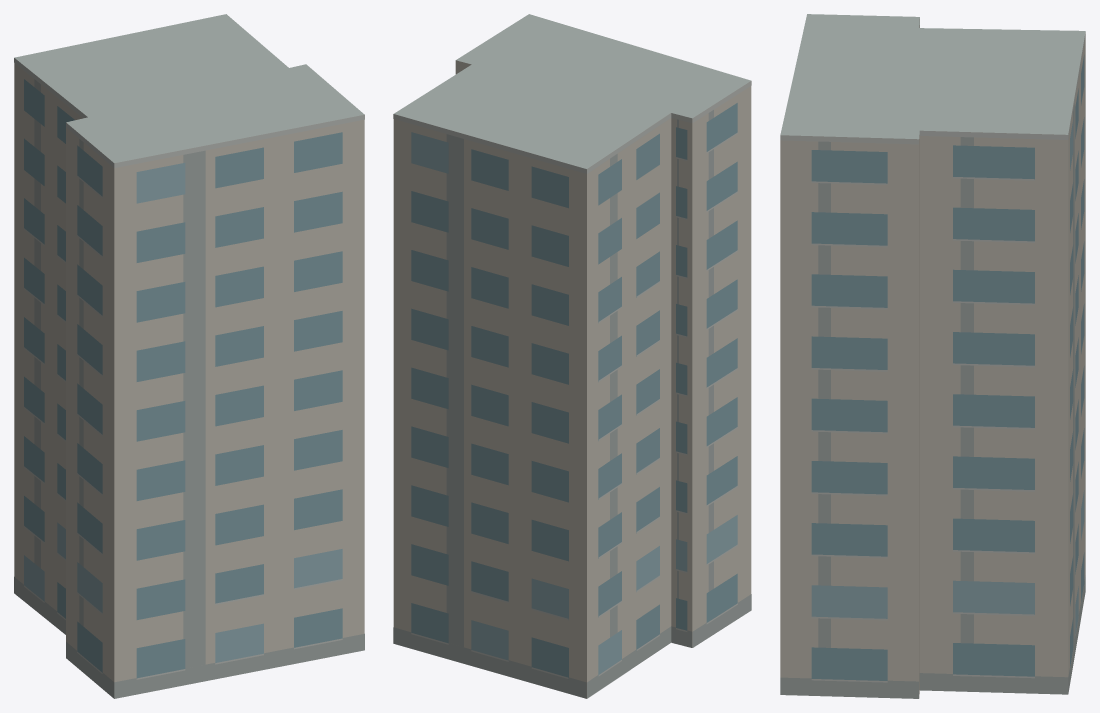
File: survey-upis-33018267.glb
3 views of the same model, side by side, from view 1: azimuth 30°, elevation 25°; view 2: azimuth 150°, elevation 25°; view 3: azimuth 270°, elevation 25° (orthographic). The views are drawn at different scales.
Parts seen in each view (by area): view 1: survey-upis-33018267.tmp; view 2: survey-upis-33018267.tmp; view 3: survey-upis-33018267.tmp.
Part boxes in pixels (<box>): survey-upis-33018267.tmp: <box>14,14,364,698</box>; survey-upis-33018267.tmp: <box>393,14,751,698</box>; survey-upis-33018267.tmp: <box>780,14,1085,698</box>.
Size of the model in its own units: 12.58 by 26.2 by 12.97.
